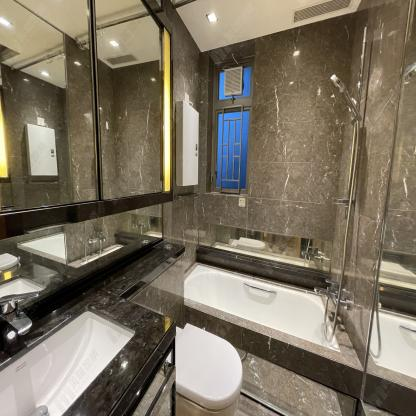Bathtub: (184, 263, 365, 400)
Exhaust Fan: (224, 66, 243, 96)
Faucet: (1, 291, 40, 346)
Toilet: (177, 312, 250, 416)
Toilet Sink: (0, 288, 166, 416)
Water Heater: (176, 100, 199, 186)
